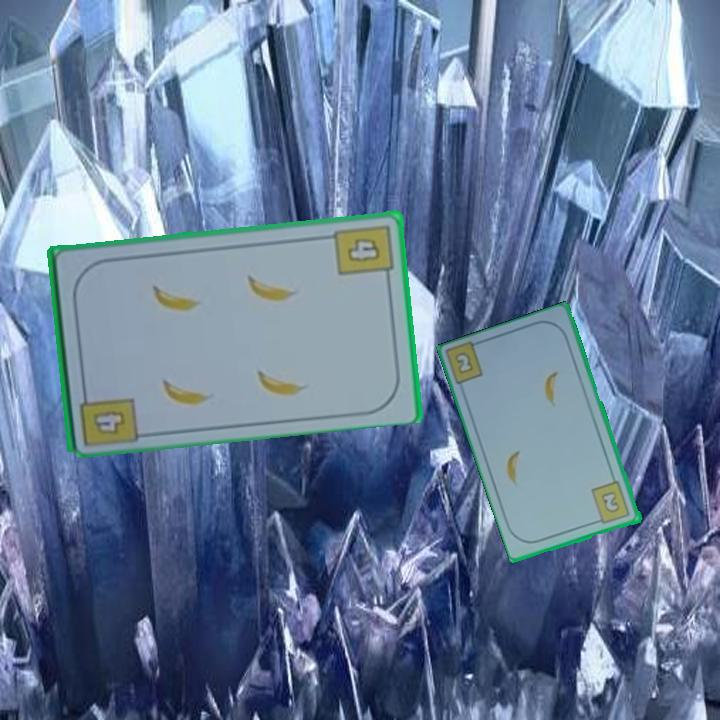2b: (588, 478, 633, 527), (453, 349, 476, 377)
4b: (330, 220, 396, 284), (93, 409, 125, 434)
